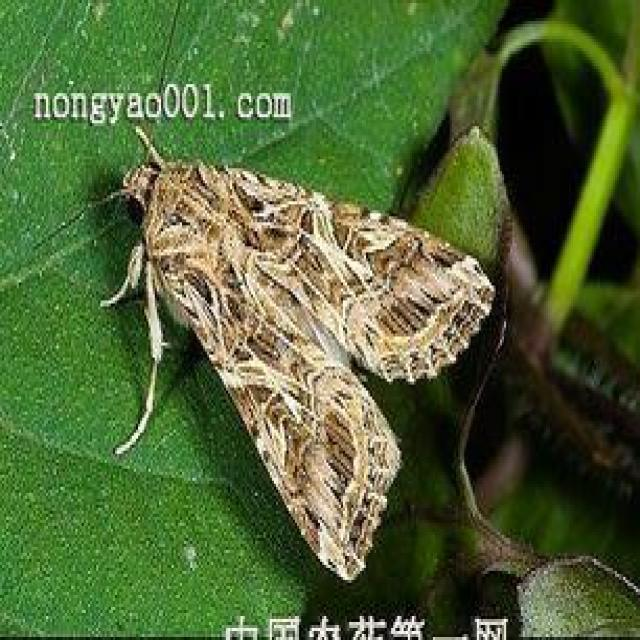BeetArmyWorm-Adult-: (89, 127, 501, 582)
